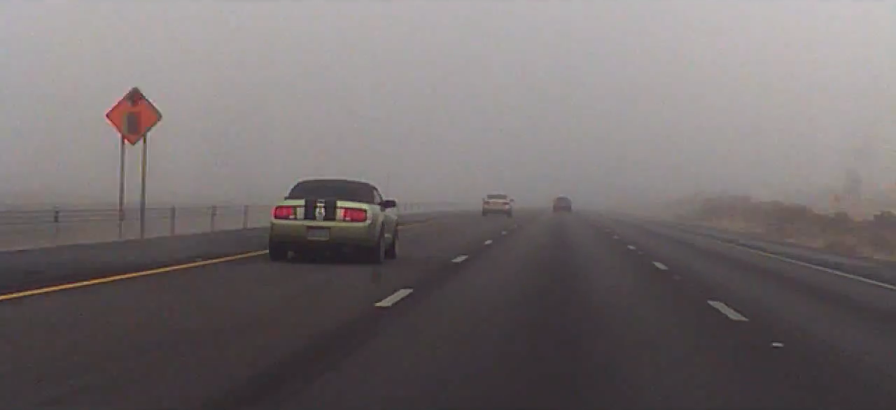car: (268, 177, 400, 265), (480, 190, 515, 217), (552, 196, 575, 215)
